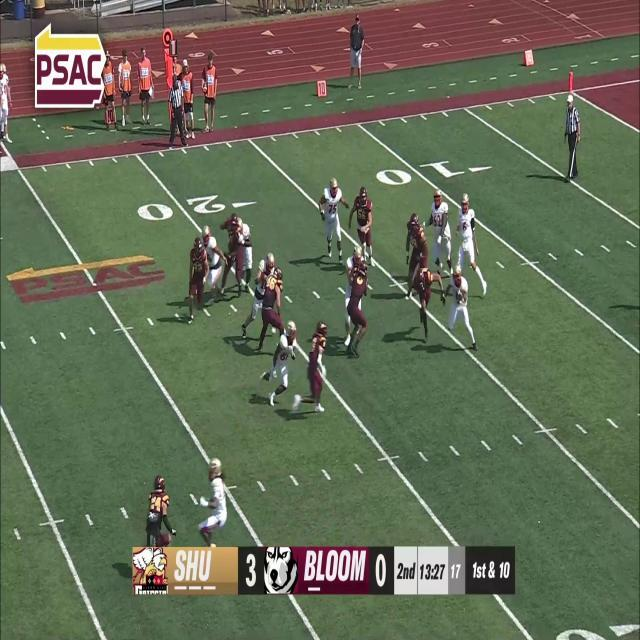football: (456, 290, 465, 304)
